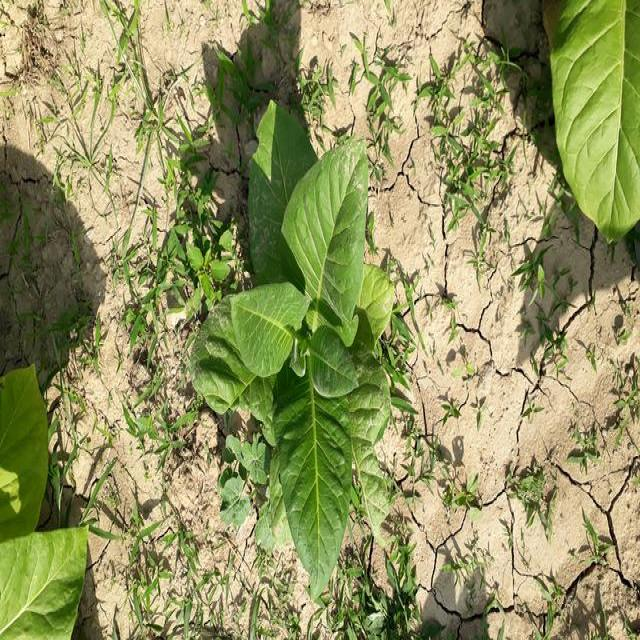crop: (205, 116, 396, 570), (0, 361, 82, 640), (542, 4, 640, 237)
